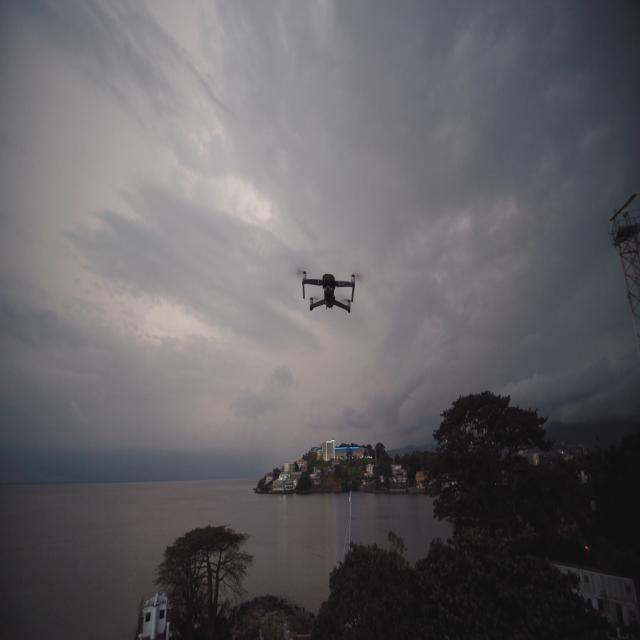drone: (301, 270, 355, 314)
